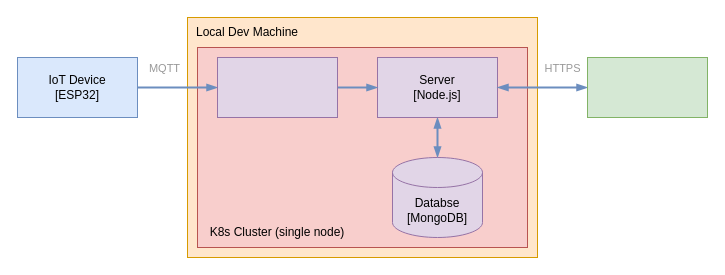
Image size: 725x275. Some labels were removed from this diagram. Each missing label, with the centre of its shape:
"Client [Web browser]" belongs at (647,87).
"MQTT Broker [Eclipse Mosquitto]" belongs at (277,87).
